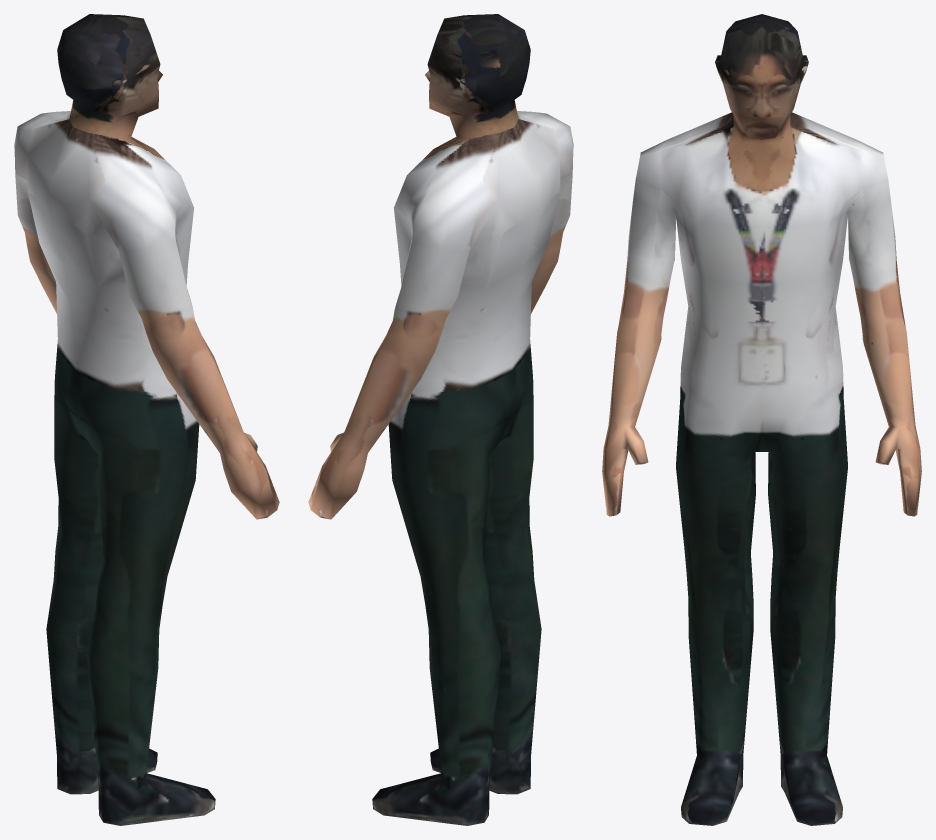
The picture shows the model from 3 angles, left to right: view 1: azimuth 30°, elevation 25°; view 2: azimuth 150°, elevation 25°; view 3: azimuth 270°, elevation 25°; orthographic projection.
Parts seen in each view (by area): view 1: jp; view 2: jp; view 3: jp.
Boxes of the visible parts, x1,y1,x2,y2 form: jp: [14, 14, 279, 825]; jp: [308, 14, 573, 825]; jp: [602, 14, 921, 825].
Bounding box in the file's own units: 92.32 × 442 × 166.
